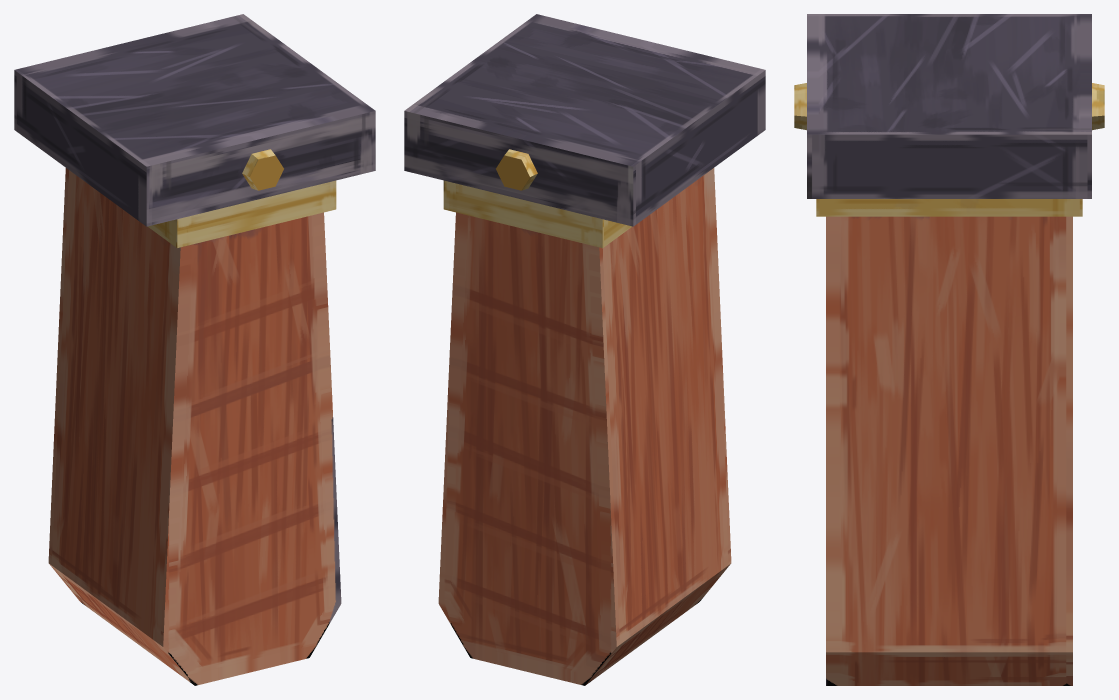
Rendered from att_foregrip.bundle.fbx.
3 views of the same model, side by side, from view 1: azimuth 30°, elevation 25°; view 2: azimuth 150°, elevation 25°; view 3: azimuth 270°, elevation 25° (orthographic). The views are drawn at different scales.
Parts seen in each view (by area): view 1: att_foregrip_low, att_foregrip; view 2: att_foregrip_low, att_foregrip; view 3: att_foregrip, att_foregrip_low.
Boxes of the visible parts, left/top/right/bottom form: att_foregrip_low: left=14, top=14, right=375, bottom=685; att_foregrip: left=19, top=18, right=369, bottom=656; att_foregrip_low: left=404, top=14, right=765, bottom=685; att_foregrip: left=410, top=18, right=760, bottom=657; att_foregrip: left=794, top=14, right=1104, bottom=685; att_foregrip_low: left=807, top=14, right=1091, bottom=685.
Size of the model in its own units: 0.135 by 0.3038 by 0.147.
1 material, 1 textured.
